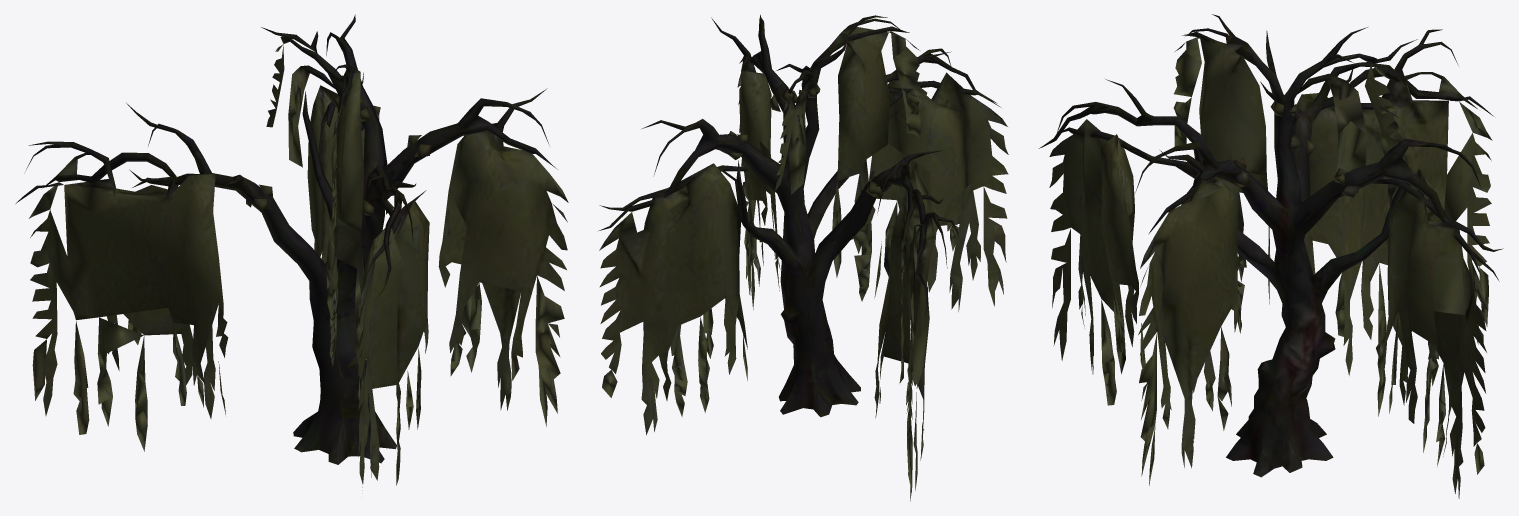
The model's file is prop_node_bleeding_willow.glb.
3 renders of one model, left to right at view 1: azimuth 30°, elevation 25°; view 2: azimuth 150°, elevation 25°; view 3: azimuth 270°, elevation 25°, orthographic. The views are drawn at different scales.
Parts seen in each view (by area): view 1: tripo_node_fb8bdfce-c053-4383-9b43-513c3f24121a; view 2: tripo_node_fb8bdfce-c053-4383-9b43-513c3f24121a; view 3: tripo_node_fb8bdfce-c053-4383-9b43-513c3f24121a.
Part boxes in pixels (x1=…): tripo_node_fb8bdfce-c053-4383-9b43-513c3f24121a: x1=15, y1=14, x2=568, y2=490; tripo_node_fb8bdfce-c053-4383-9b43-513c3f24121a: x1=599, y1=14, x2=1008, y2=501; tripo_node_fb8bdfce-c053-4383-9b43-513c3f24121a: x1=1038, y1=14, x2=1503, y2=498.
Size of the model in its own units: 0.998 by 0.998 by 0.998.
Materials: 1 (1 with a texture image).
